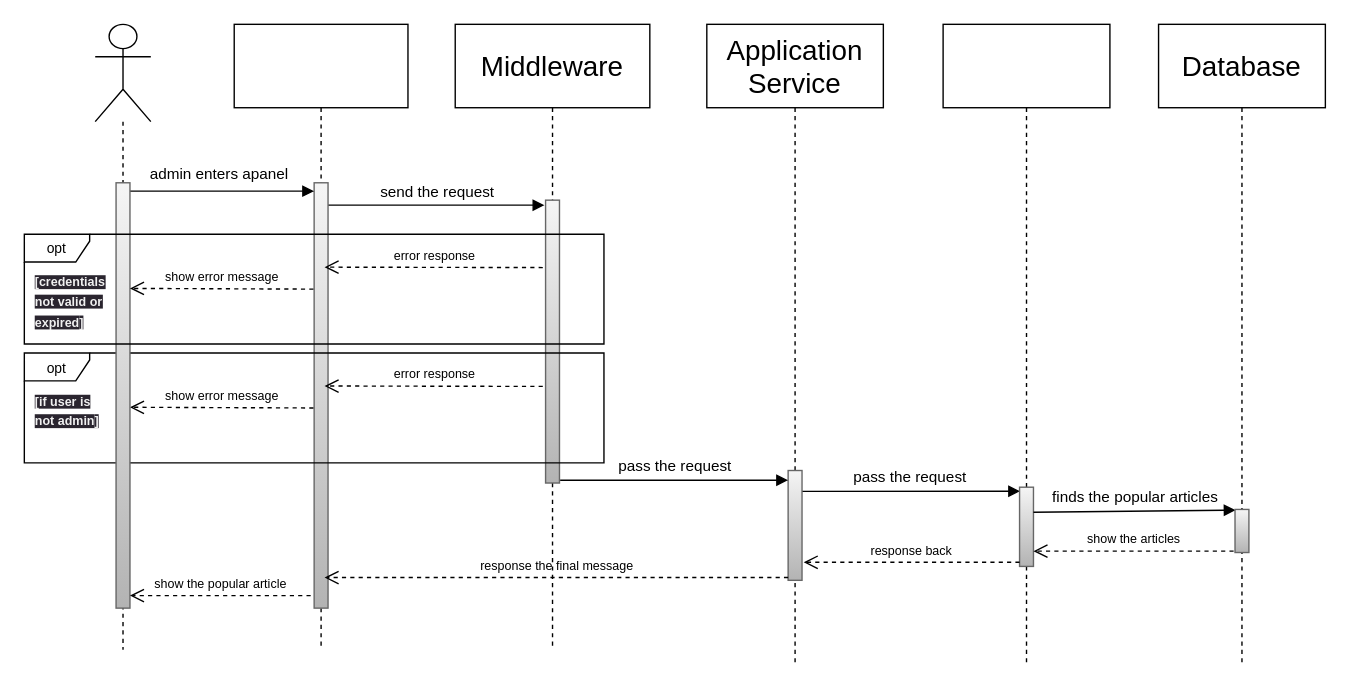
Some shapes in this 1350 by 688 pixel diagram are drawn without their labels. The shapes that lost their labels are listed below. From the top down, each one's box as (x1, y1, x2, y2) in pixels, then its label:
(233, 23, 408, 650): Web UI
(942, 23, 1110, 664): Domain Service
